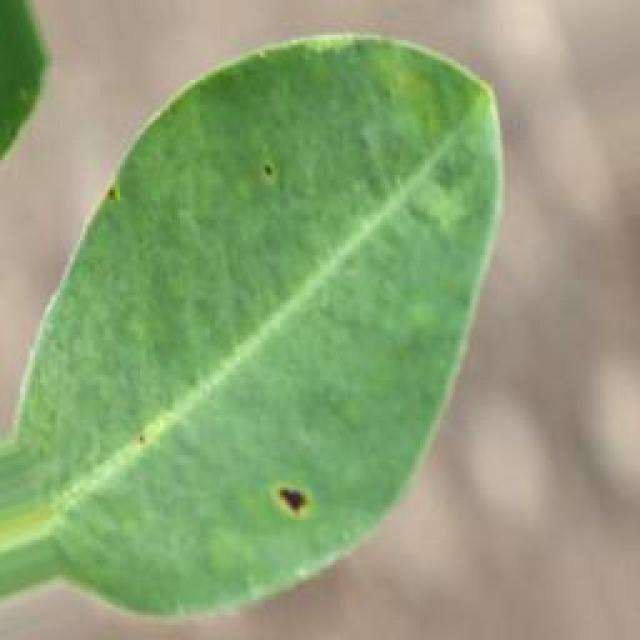Yellowish: (79, 146, 167, 248), (255, 459, 349, 528), (251, 130, 300, 197)
